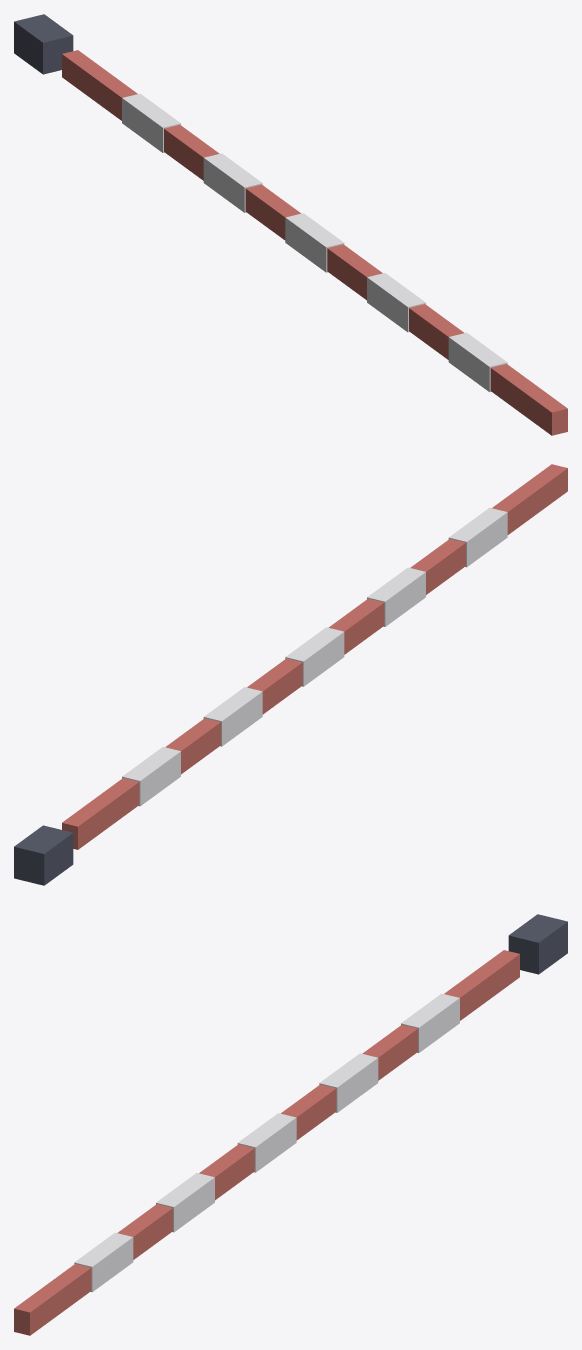
The model's file is bariyer.glb.
3 views of the same model, one above another, from view 1: azimuth 30°, elevation 25°; view 2: azimuth 150°, elevation 25°; view 3: azimuth 330°, elevation 25° (orthographic).
Parts seen in each view (by area): view 1: Bariyer; view 2: Bariyer; view 3: Bariyer.
Part boxes in pixels (box(x1,y1,x2,y2)): Bariyer: box(14, 14, 567, 435); Bariyer: box(14, 464, 567, 885); Bariyer: box(14, 914, 567, 1335).
Size of the model in its own units: 0.3 by 0.3 by 9.1.
